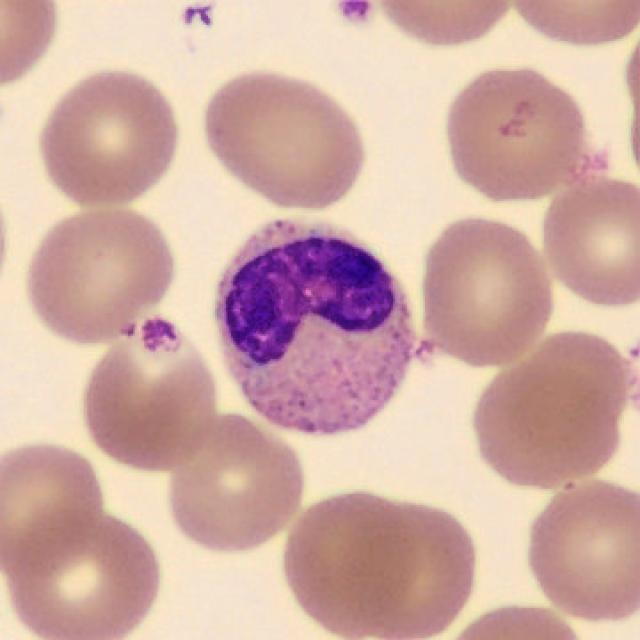Metamielocito: (213, 224, 427, 437)
